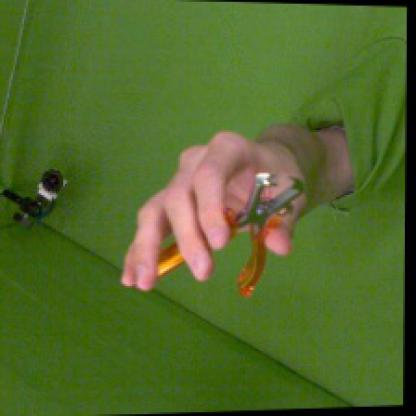Hand: (122, 131, 309, 293)
